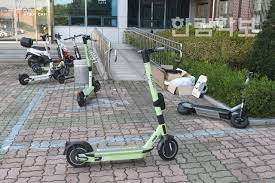fallin_kick: (178, 64, 256, 128)
kick_board: (66, 47, 179, 166)
kick_body: (94, 147, 148, 160), (30, 74, 52, 80)
kick_handler: (136, 46, 165, 58), (81, 34, 97, 44), (40, 34, 52, 38)
kick_neck: (144, 63, 168, 135)
kick_wheel: (64, 141, 92, 167), (158, 136, 180, 159), (18, 73, 28, 84), (77, 92, 84, 105), (94, 80, 100, 91)
